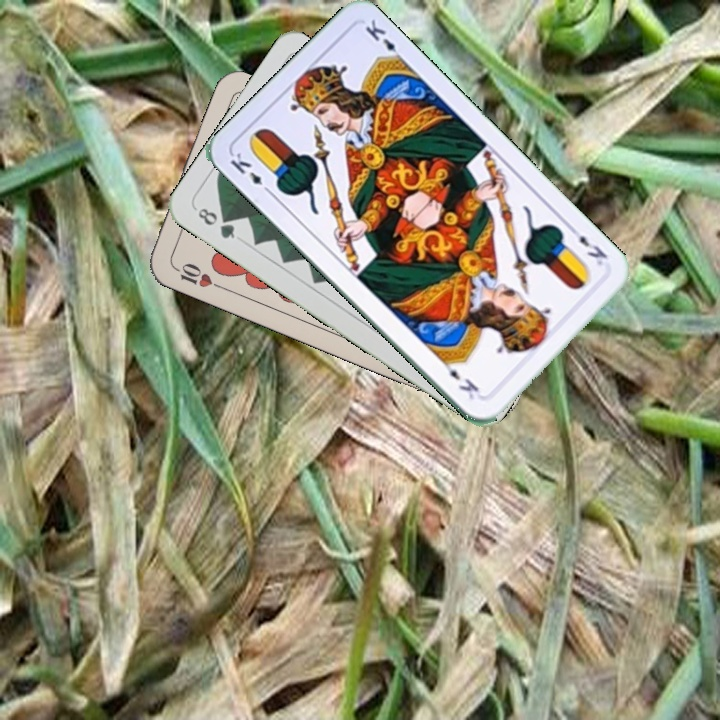EK: (226, 148, 275, 197), (566, 223, 610, 268)
G8: (192, 203, 238, 242)
H10: (168, 259, 225, 291)
